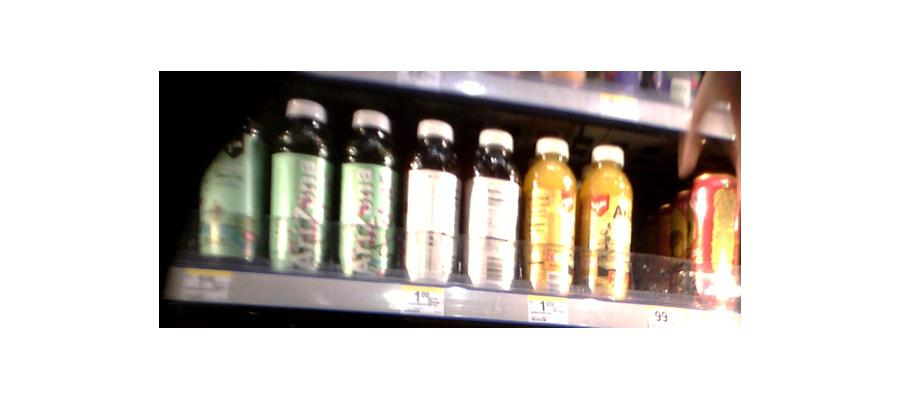bottle: (197, 103, 264, 264), (337, 108, 396, 279), (269, 101, 329, 269), (401, 124, 461, 287), (523, 137, 577, 297), (466, 128, 519, 291), (582, 142, 634, 300), (685, 174, 739, 304)
